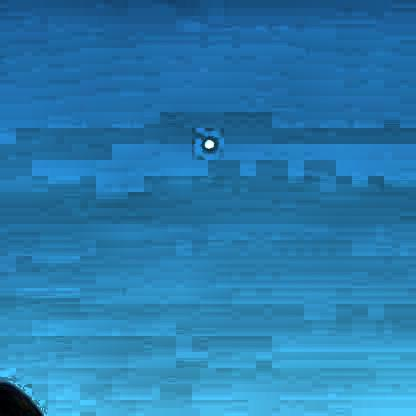golfball: (200, 135, 214, 149)
